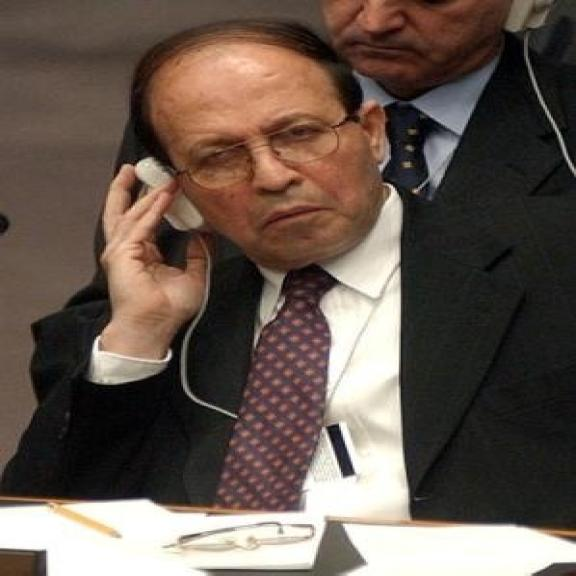face: (118, 33, 389, 269)
